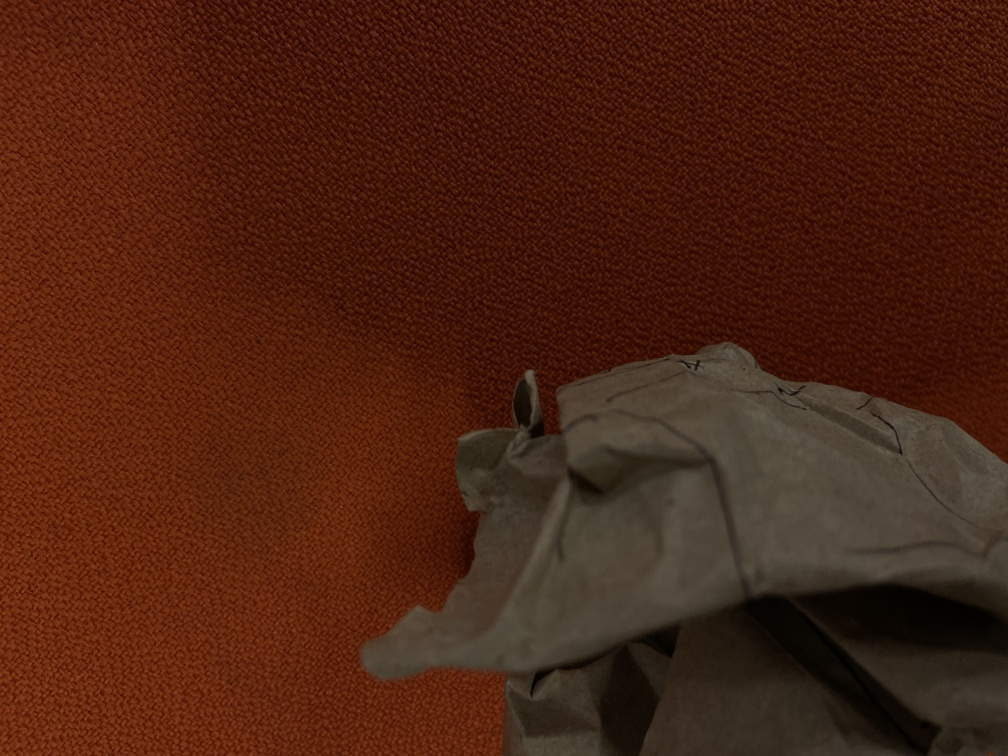paper_brown: (356, 336, 1008, 754)
